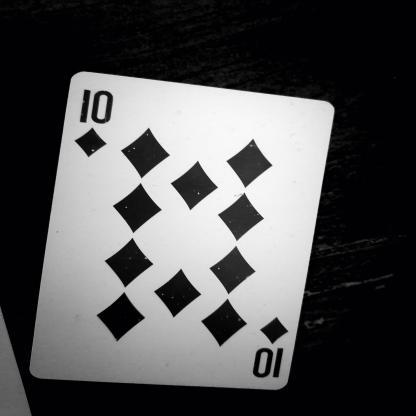10D: (66, 85, 136, 158), (240, 306, 302, 382)
